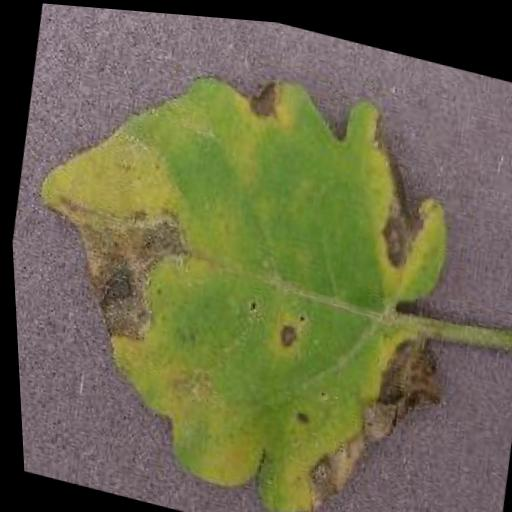Septoria: (1, 18, 486, 512)
